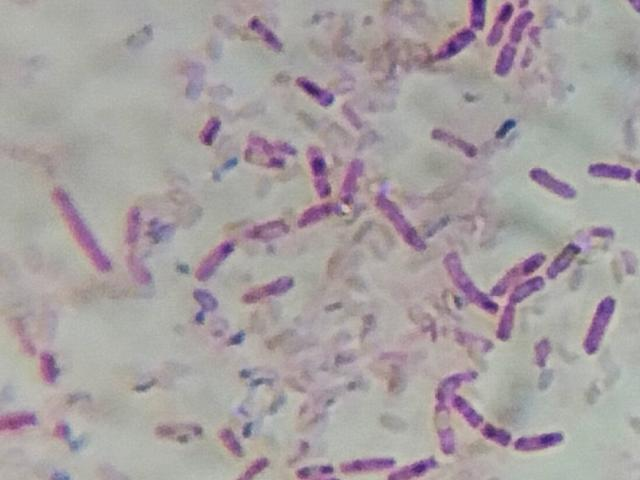E. coli: (52, 185, 106, 272), (375, 195, 426, 250), (585, 289, 624, 357), (435, 256, 486, 302), (491, 245, 537, 286), (526, 165, 573, 203), (251, 16, 288, 62), (196, 233, 231, 281), (549, 239, 585, 285), (512, 425, 562, 458), (432, 397, 457, 459), (125, 252, 161, 294), (586, 156, 630, 190), (292, 72, 331, 110), (248, 275, 302, 302), (1, 405, 43, 437), (432, 29, 472, 62), (488, 4, 519, 45), (436, 362, 478, 392), (393, 451, 434, 480), (341, 452, 399, 472), (445, 392, 480, 425), (306, 196, 343, 227), (215, 423, 243, 461), (251, 212, 285, 243), (489, 40, 517, 77), (39, 345, 62, 389), (306, 145, 330, 185), (199, 113, 224, 151), (509, 279, 542, 307), (232, 446, 259, 480), (339, 156, 360, 199), (513, 7, 536, 46), (121, 206, 143, 246), (462, 0, 486, 35), (499, 307, 519, 345), (483, 425, 514, 446), (299, 461, 329, 480)
